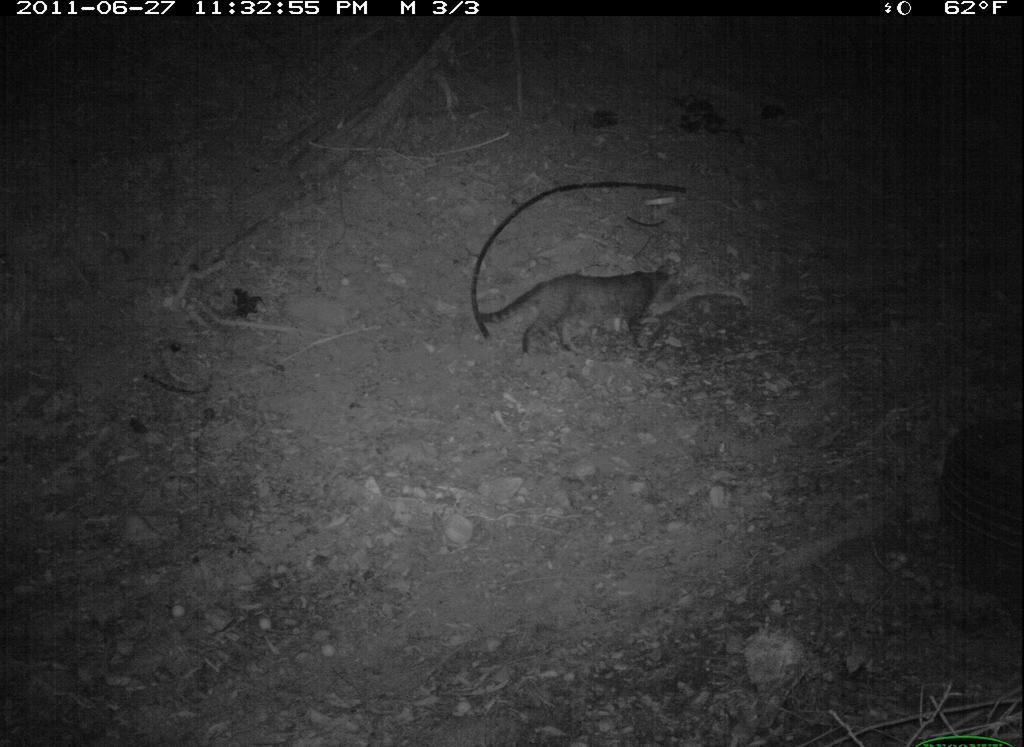cat: (473, 254, 685, 363)
